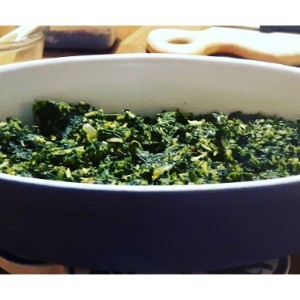spinach_brain food: (19, 102, 291, 180)
